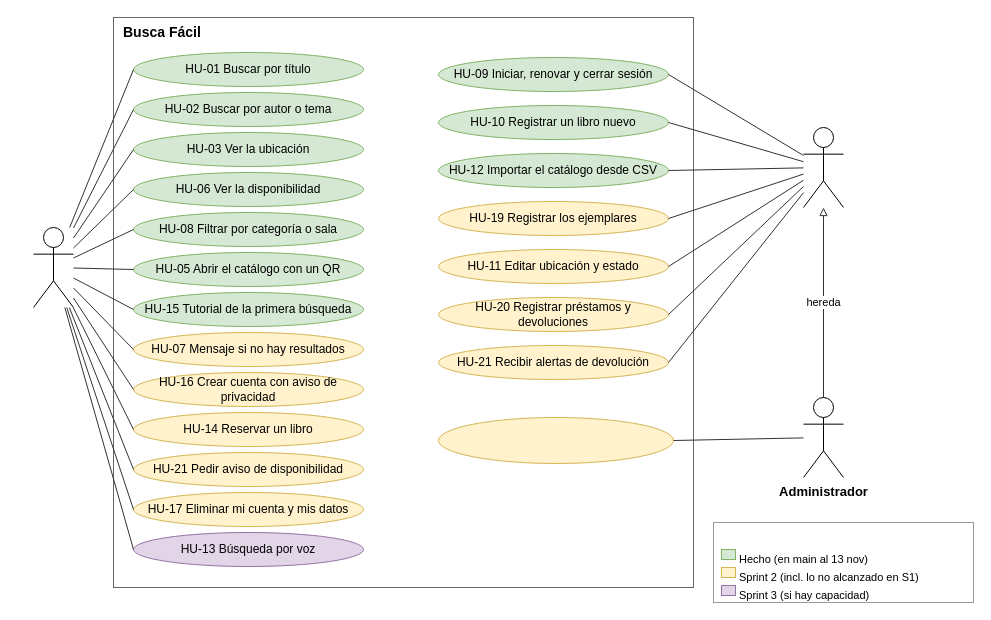
The diagram is 991 pixels wide and 620 high, and some of its shapes have lost their labels. The shapes that lost their labels are listed below. From the top down, each one's box as (x1, y1, x2, y2) in pixels, then its label:
(802, 126, 844, 208): Personal
(32, 226, 74, 308): Lector (visitante o con cuenta)
(438, 416, 674, 464): HU-18 Gestionar cuentas del personal y roles
(712, 522, 974, 602): Leyenda: estado de la historia
